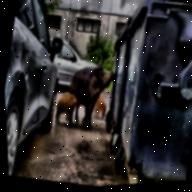boar: (56, 48, 123, 141)
